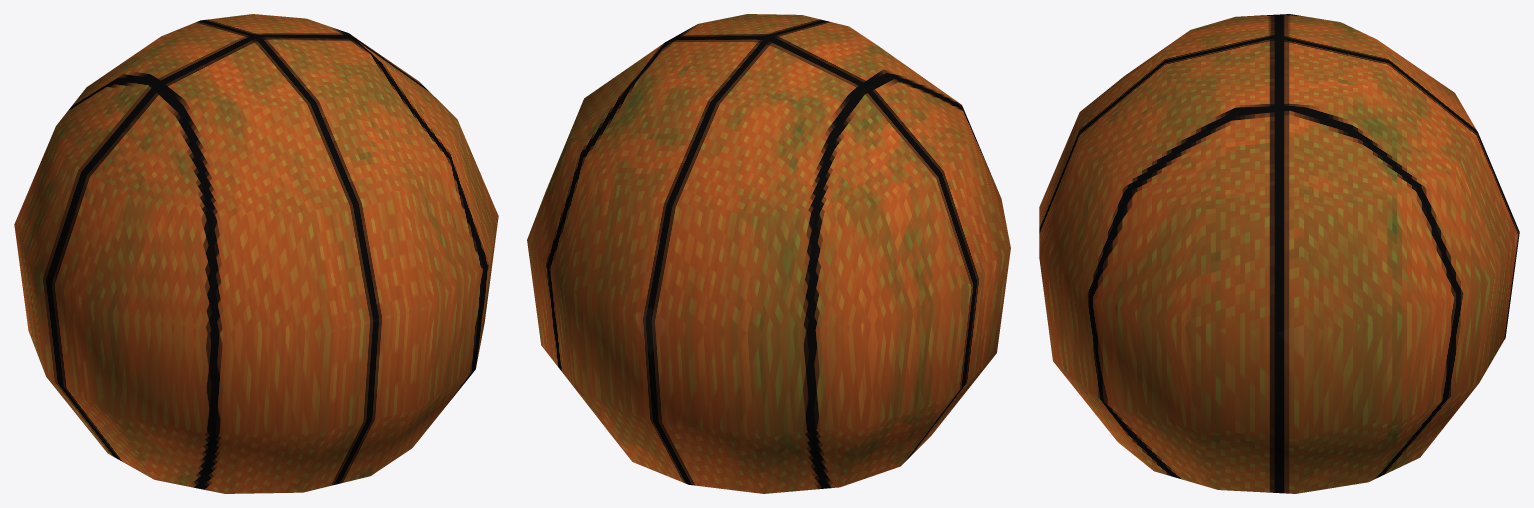
The model's file is _Basketball_Ball_1.FBX.
3 views of the same model, side by side, from view 1: azimuth 30°, elevation 25°; view 2: azimuth 150°, elevation 25°; view 3: azimuth 270°, elevation 25° (orthographic).
Parts seen in each view (by area): view 1: _Basketball_Ball_1; view 2: _Basketball_Ball_1; view 3: _Basketball_Ball_1.
Boxes of the visible parts, x1,y1,x2,y2 form: _Basketball_Ball_1: (14, 14, 498, 493); _Basketball_Ball_1: (527, 14, 1010, 493); _Basketball_Ball_1: (1039, 14, 1519, 493).
Bounding box in the file's own units: 29.56 × 30 × 29.35.
Materials: 1 (1 with a texture image).
